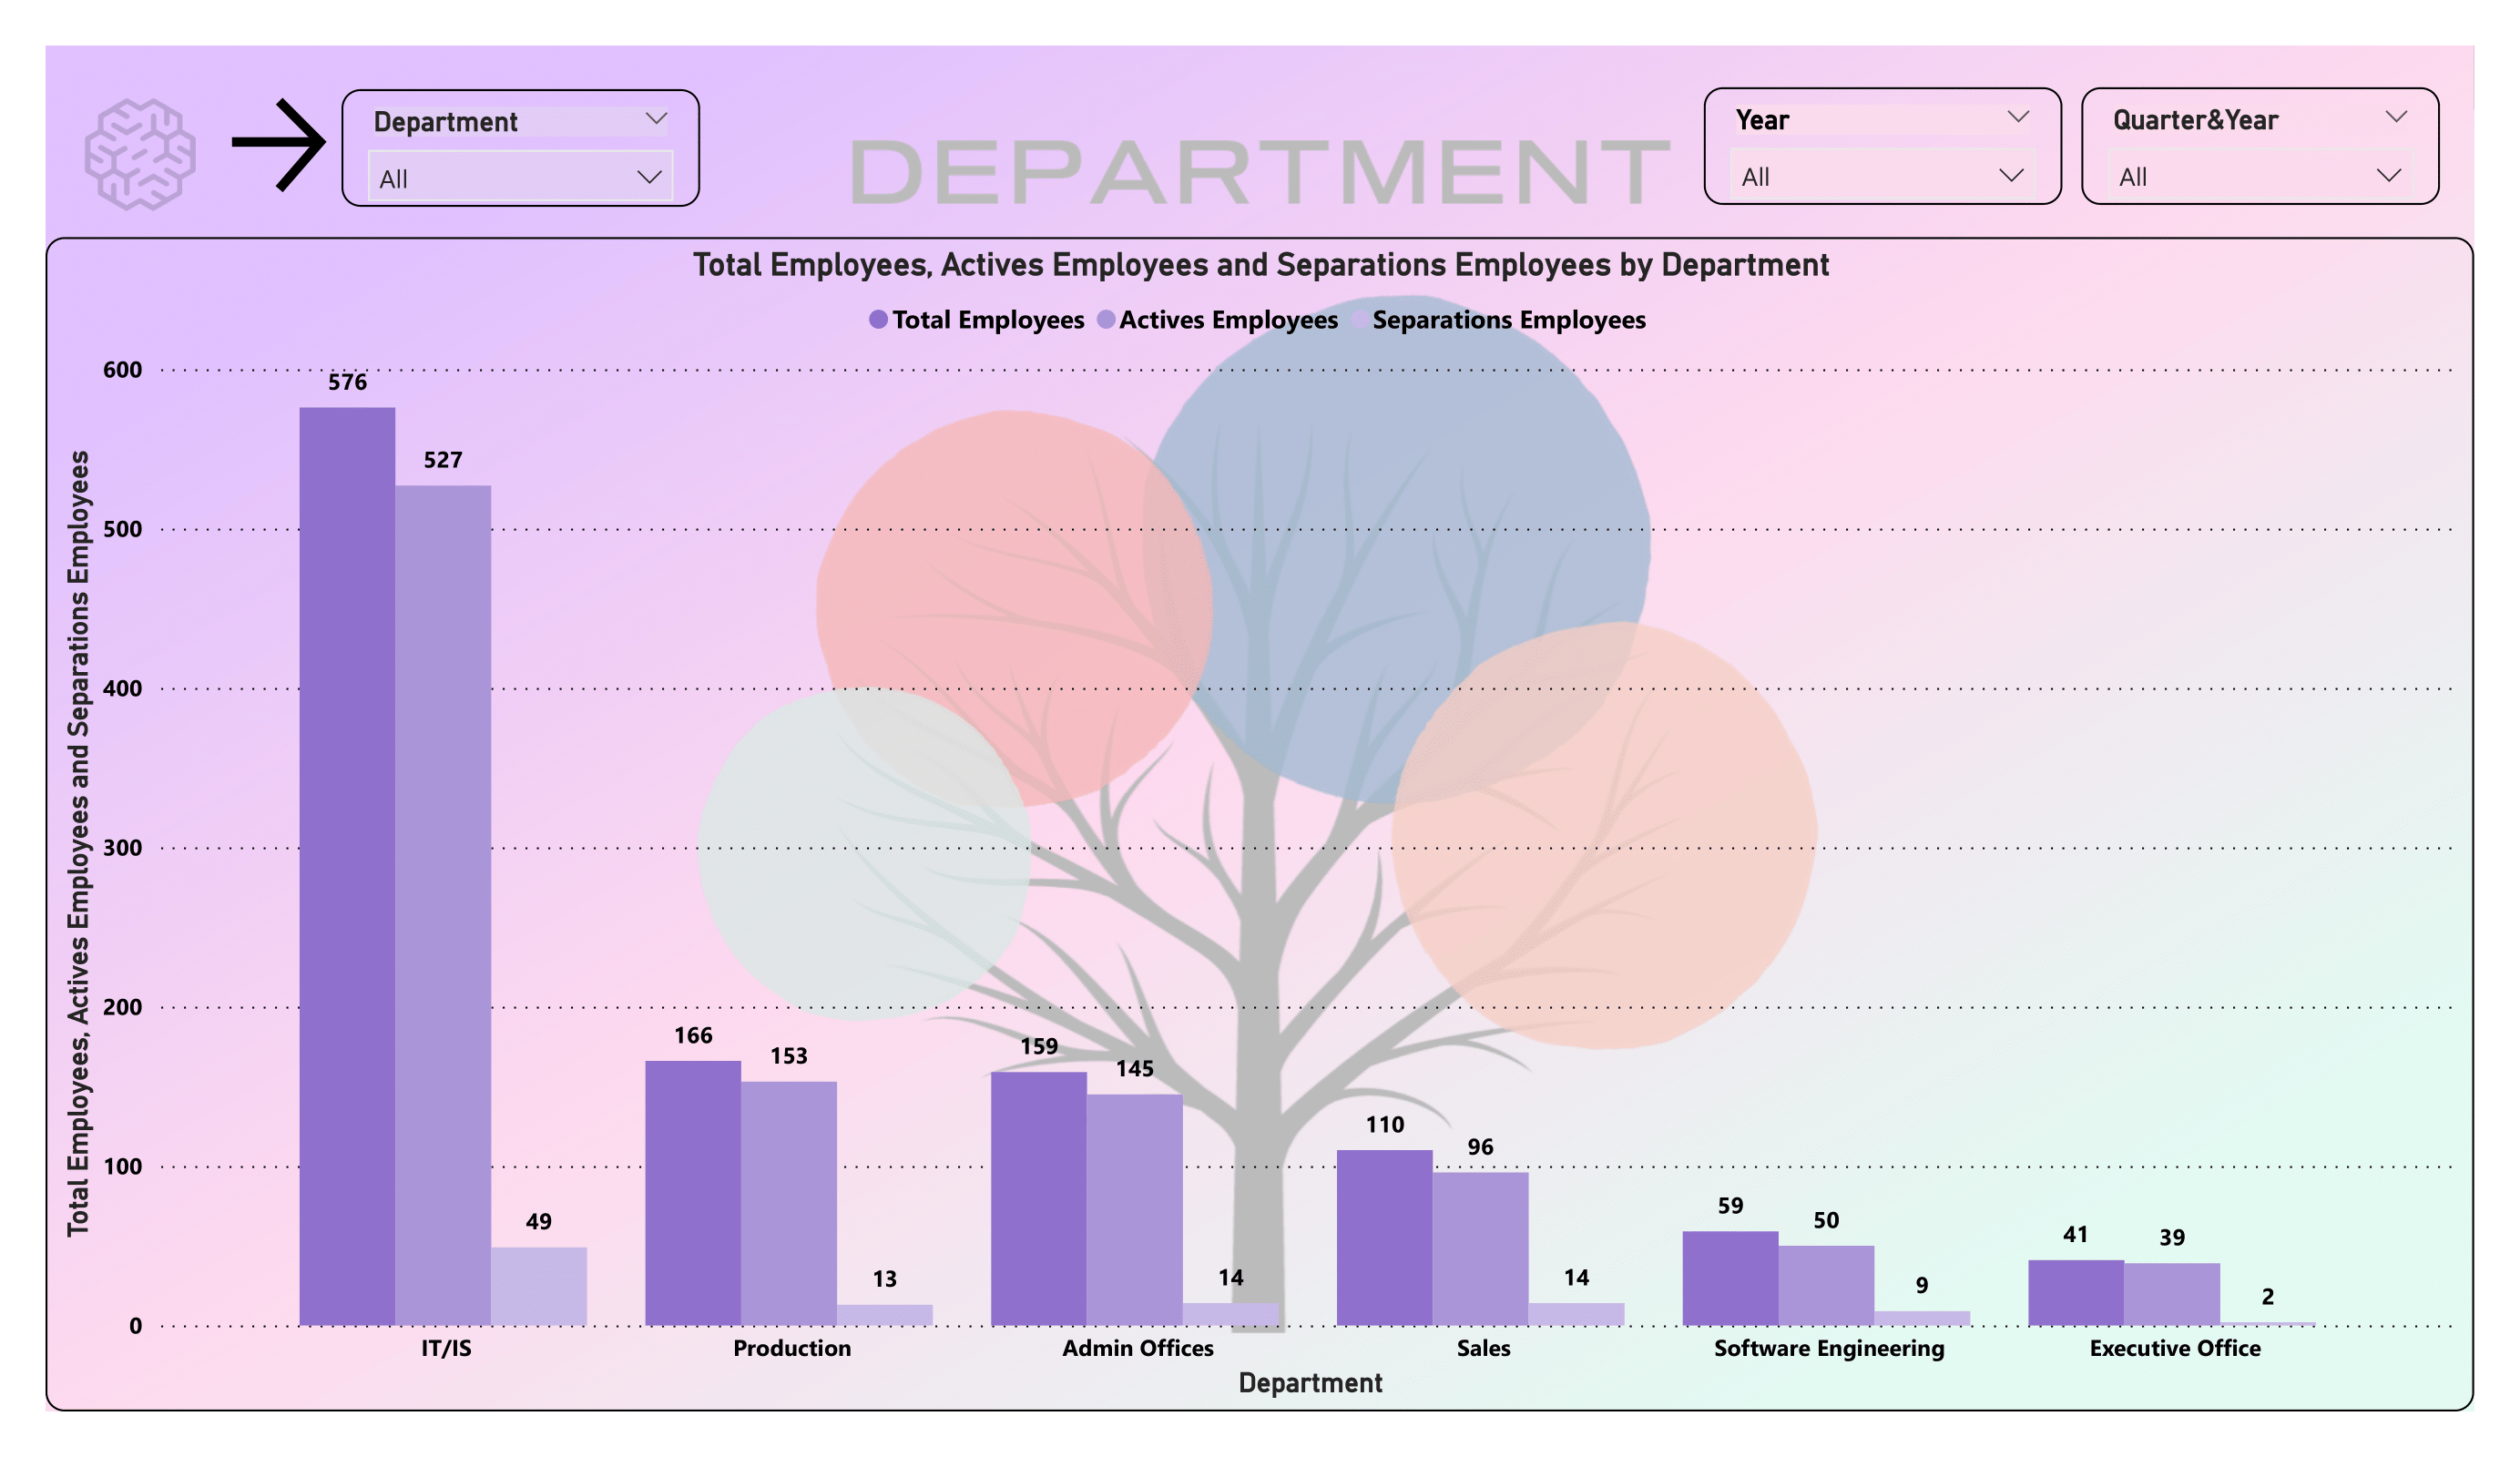

The page's visual inventory and layout, read from the dashboard file:
{"tool":"powerbi","page":{"name":"DEPARTMENT 2","canvas":[1280,720],"ordinal":2},"visuals":[{"type":"slicer","fields":{"Values":["Calendar.Year"]},"box":[873.8,21.6,189.1,62.7],"z":0},{"type":"slicer","fields":{"Values":["Calendar.QuarterInCalendar"]},"box":[1073.2,21.6,189.1,62.7],"z":1000},{"type":"slicer","fields":{"Values":["Department.Name"]},"box":[156.1,22.8,189.1,62.7],"z":2000},{"type":"image","box":[15.4,22.7,69,69],"z":3000},{"type":"clusteredColumnChart","fields":{"Category":["Department.Name","Position.Position"],"Y":["1.DepartmentKeyMeasures.Total Employees","1.DepartmentKeyMeasures.Actives Employee","1.DepartmentKeyMeasures.Separations Employees"]},"box":[0,100.8,1280,619.4],"z":4000},{"type":"actionButton","box":[85.2,21.9,71.8,60.8],"z":5000}]}

Visuals, with their boxes on the page's 1280x720 design canvas (x1, y1, x2, y2). These are canvas units, not pixel positions in the 2520x1457 screenshot, which may show the page scaled, cropped or inside an application window:
slicer - Calendar.Year: <bbox>874, 22, 1063, 84</bbox>
slicer - Calendar.QuarterInCalendar: <bbox>1073, 22, 1262, 84</bbox>
slicer - Department.Name: <bbox>156, 23, 345, 86</bbox>
image: <bbox>15, 23, 84, 92</bbox>
clusteredColumnChart - Department.Name x Position.Position: <bbox>0, 101, 1280, 720</bbox>
actionButton: <bbox>85, 22, 157, 83</bbox>
